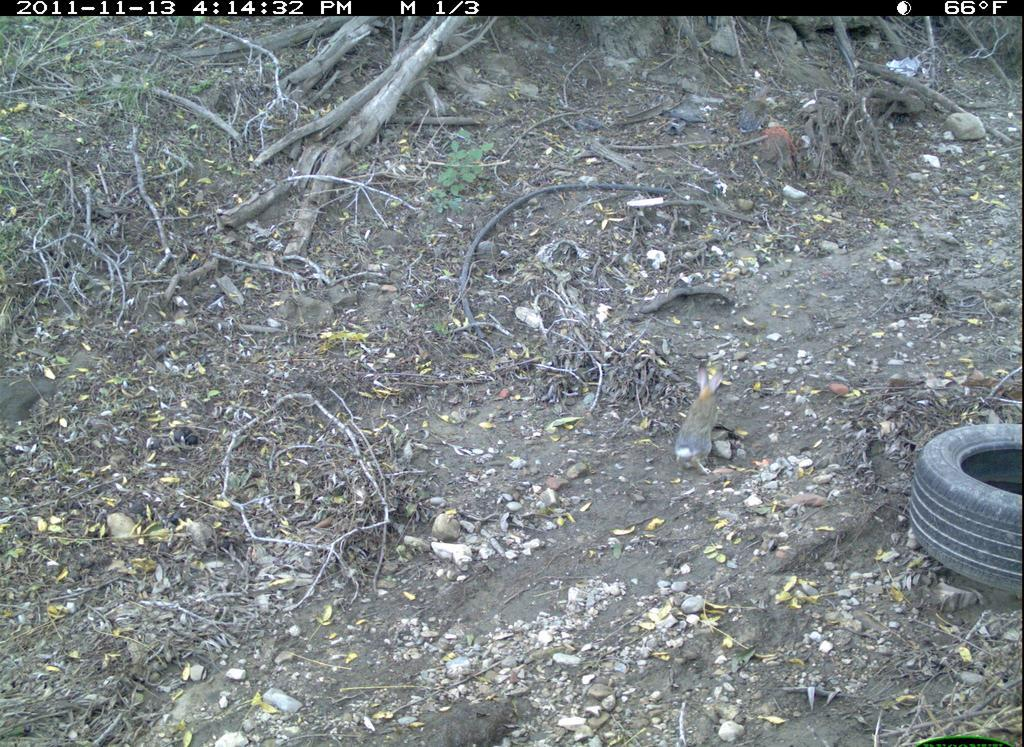rabbit: (675, 359, 749, 474)
